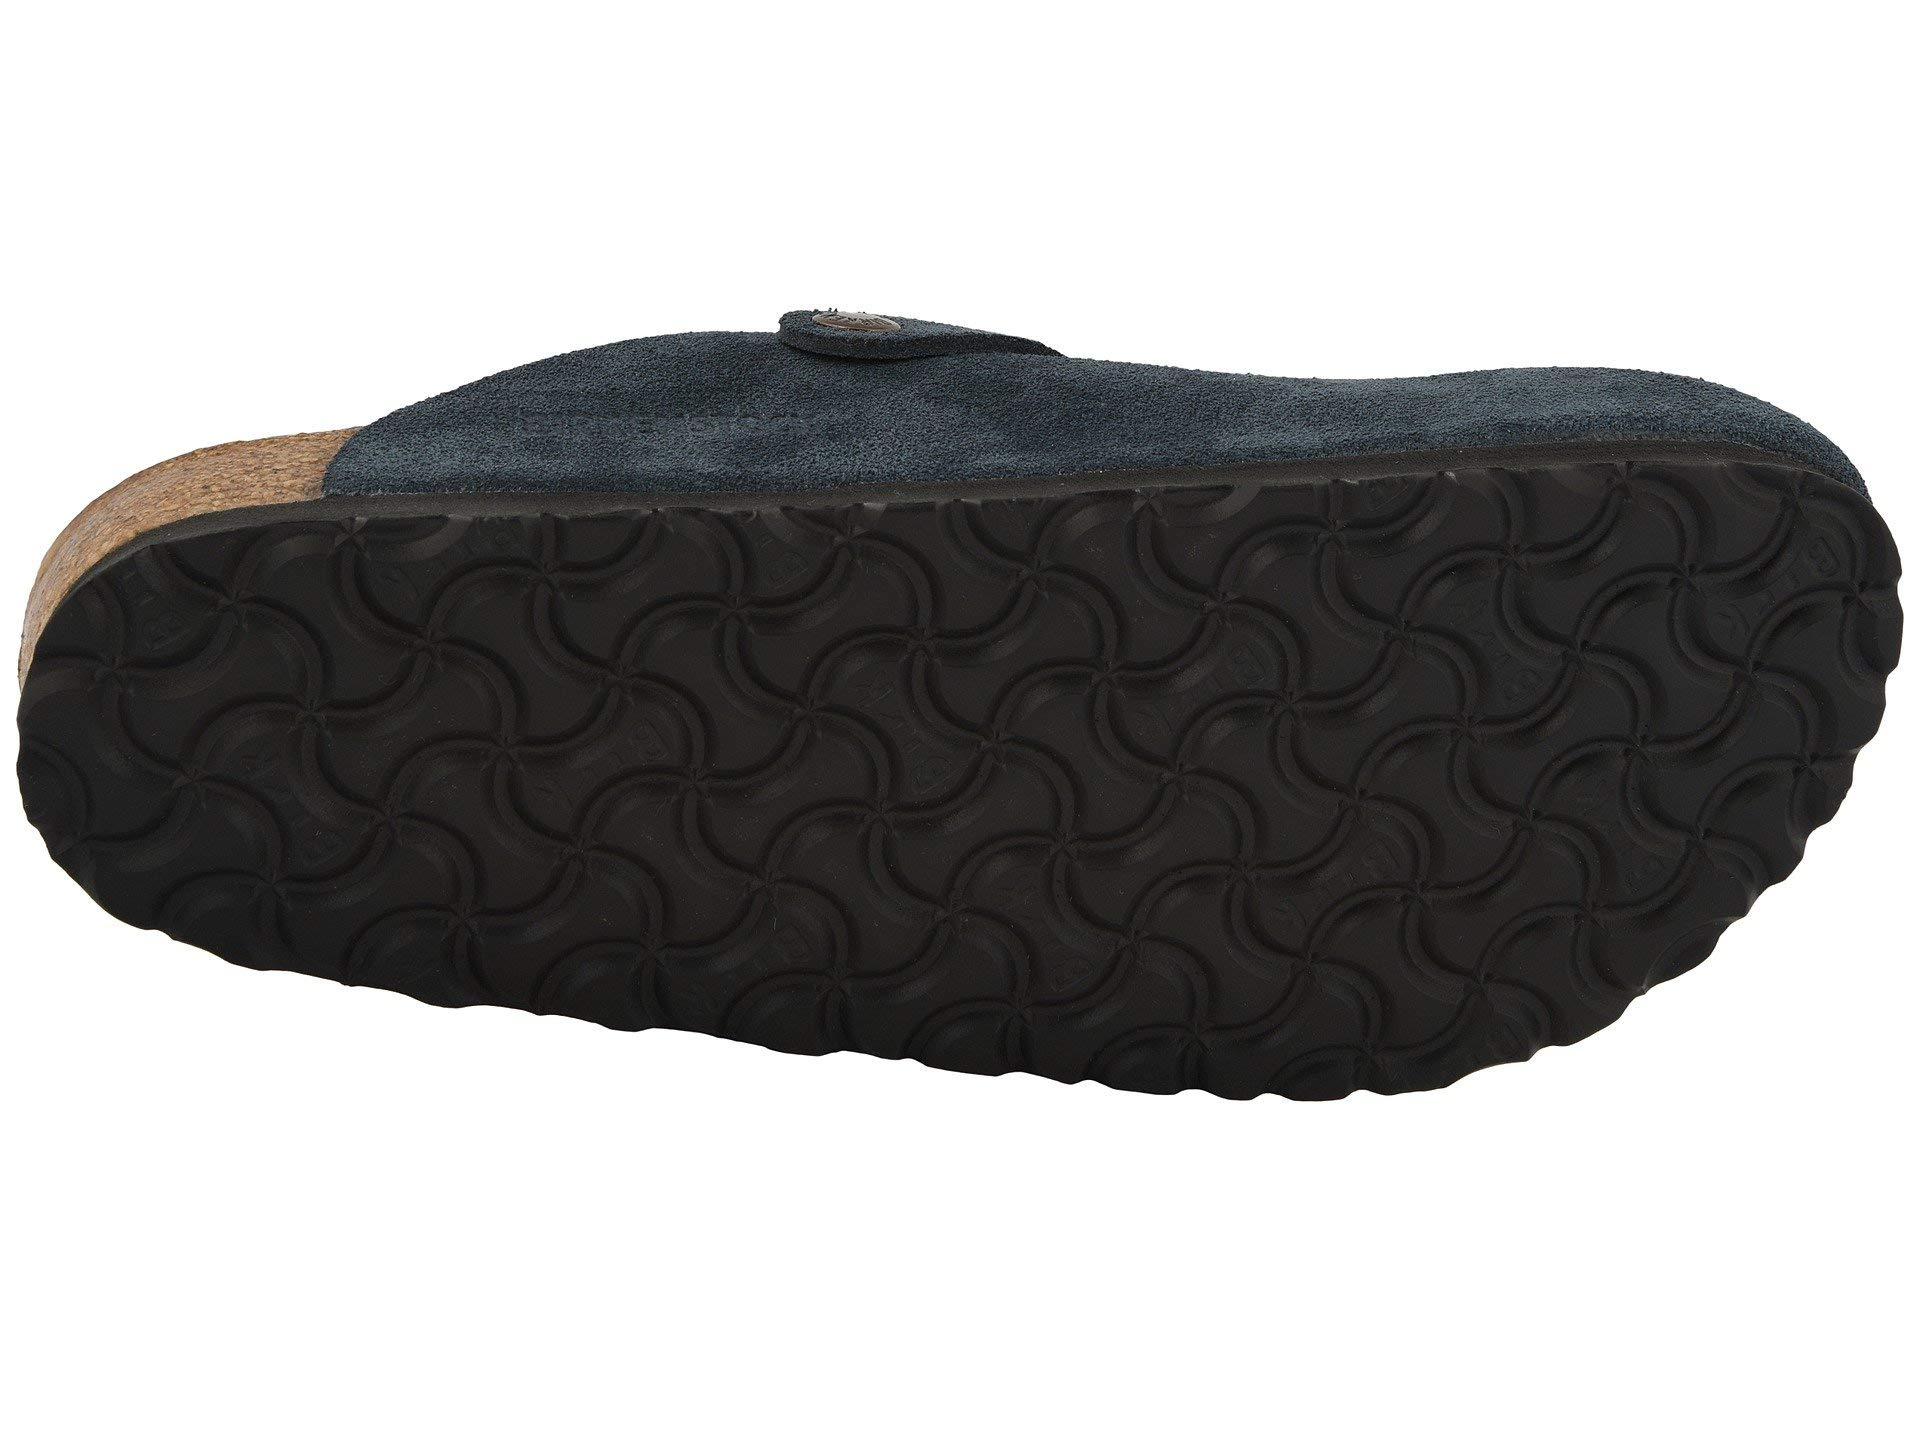bowtie: (578, 511, 1098, 1018)
text: (578, 511, 1098, 1018)
